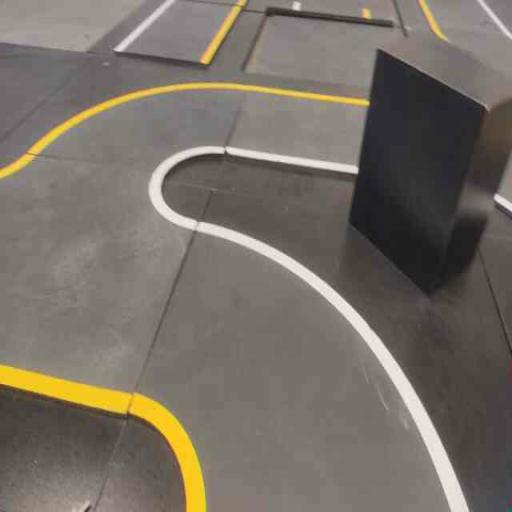left: (93, 192, 477, 511)
